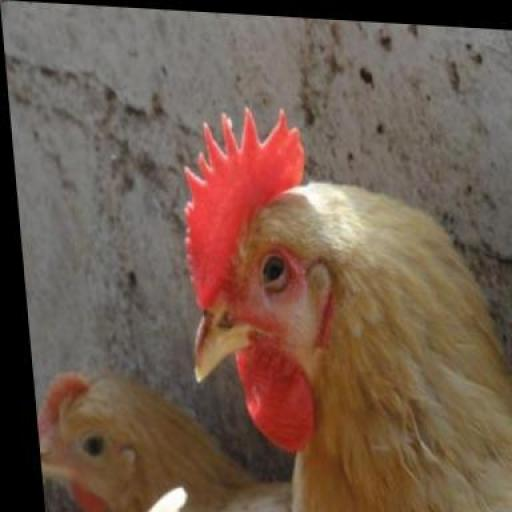disease: (224, 233, 320, 374)
